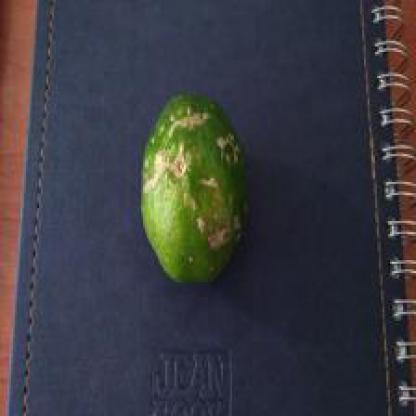orange_rotten: (109, 70, 301, 318)
